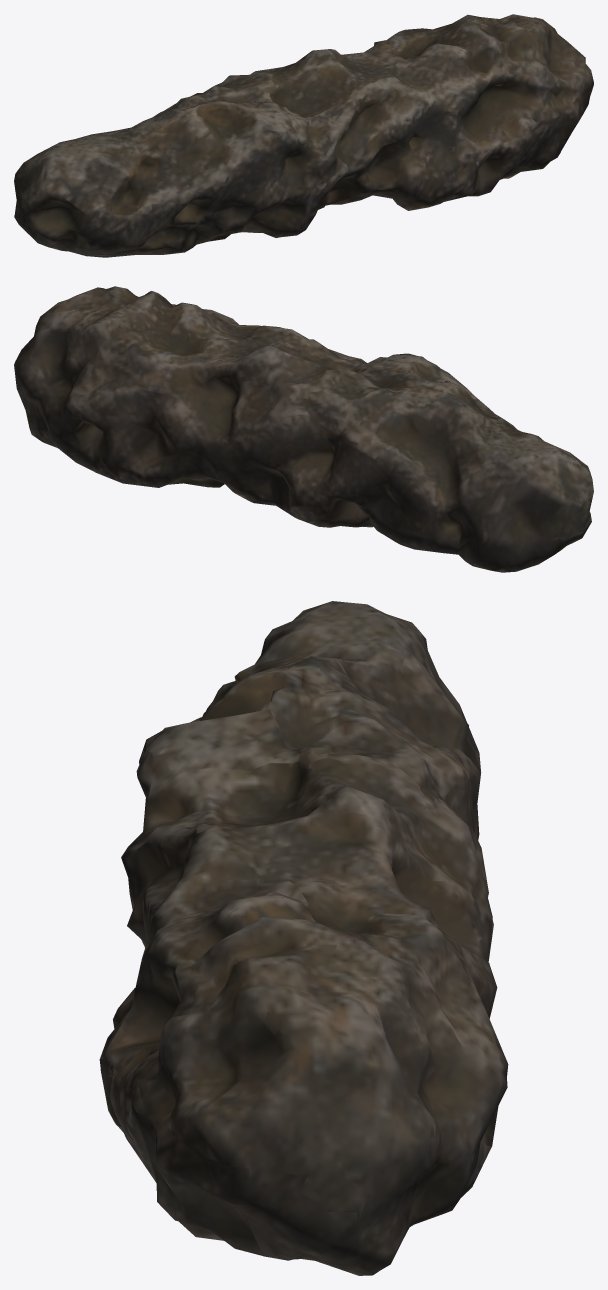
The model's file is asteroid_uncommon_1_lod2.glb.
3 renders of one model, top to bottom at view 1: azimuth 30°, elevation 25°; view 2: azimuth 150°, elevation 25°; view 3: azimuth 270°, elevation 25°, orthographic. The views are drawn at different scales.
Parts seen in each view (by area): view 1: model; view 2: model; view 3: model.
Part boxes in pixels (x1,y1,x2,y2): model: (14,14,593,257); model: (14,286,593,572); model: (99,601,508,1275).
Bounding box in the file's own units: 1.89 × 0.5082 × 0.6115.
Materials: 1 (1 with a texture image).
